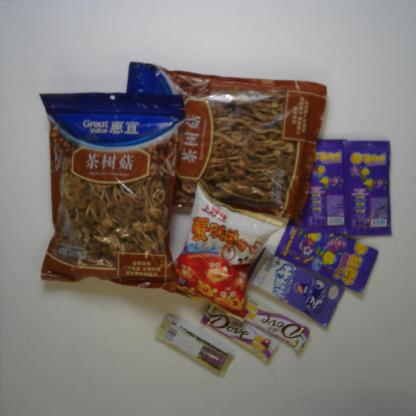Candy: (247, 246, 347, 330), (274, 218, 380, 294), (341, 139, 393, 238), (301, 137, 349, 236)
Chocolate: (152, 312, 236, 378), (199, 303, 281, 365), (243, 292, 311, 353)
Dried Food: (126, 61, 328, 222), (38, 91, 187, 295)
Puffed Food: (174, 176, 286, 324)
